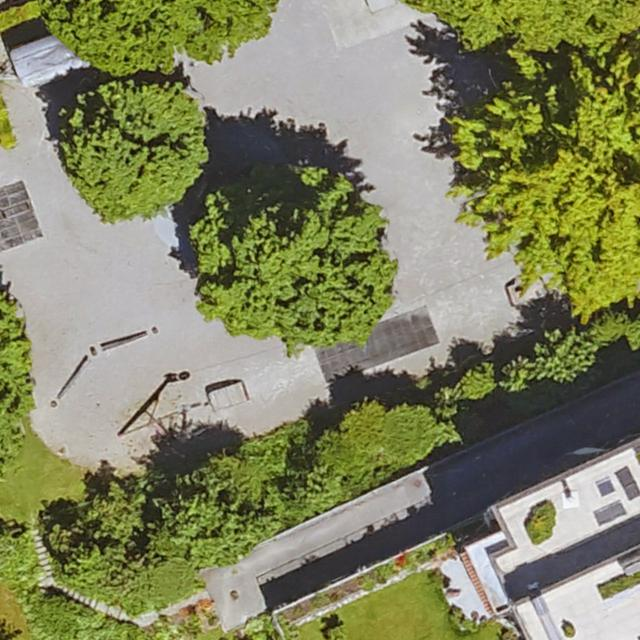tree: (456, 41, 640, 321), (191, 178, 402, 351), (54, 79, 207, 222), (39, 0, 269, 70), (402, 0, 640, 60), (143, 492, 281, 566), (0, 282, 36, 476), (177, 455, 287, 510), (281, 452, 349, 519), (530, 326, 599, 385), (85, 482, 147, 543), (375, 406, 436, 467), (334, 397, 388, 457), (57, 542, 120, 582), (587, 306, 628, 357), (40, 523, 90, 564), (452, 363, 497, 402), (618, 309, 640, 369), (500, 359, 532, 393), (429, 385, 458, 417)
